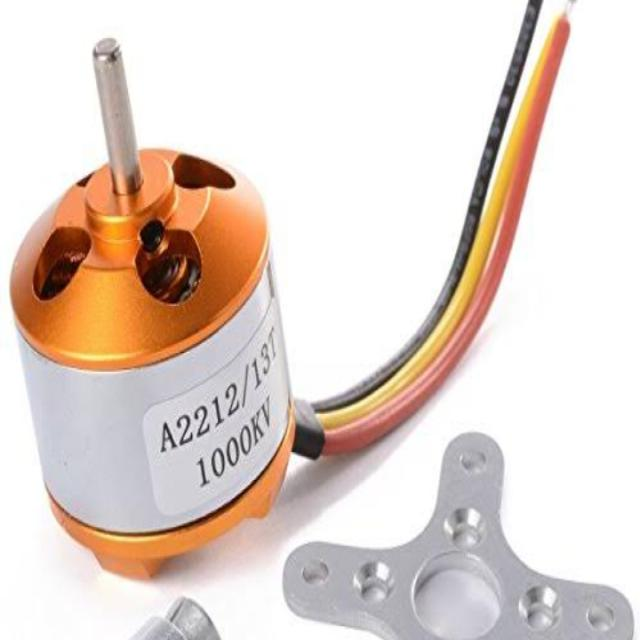motor: (9, 44, 303, 575)
